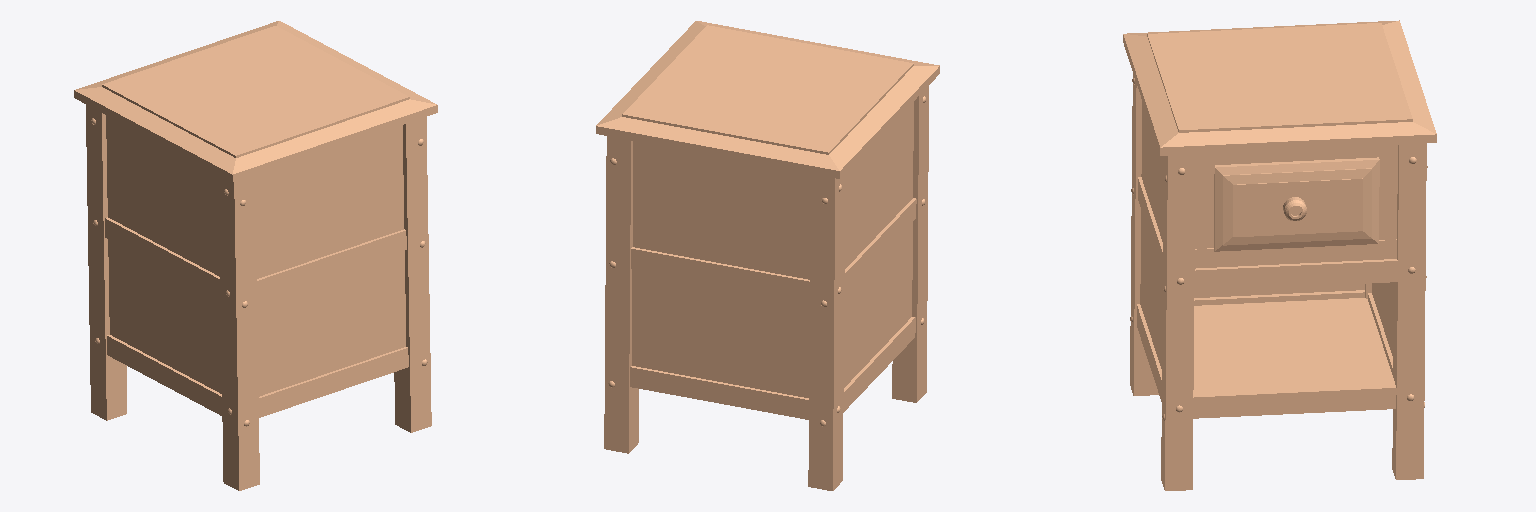
The robot description file, URDF, robot "table":
<?xml version="0.0" ?>
<robot name="table">
  <link name="tableLink">
  <contact>
      <lateral_friction value="1"/>
  </contact>
    <inertial>
      <origin rpy="0 0 0" xyz="0 0 0"/>
       <mass value="0.01"/>
       <inertia ixx="1e-3" ixy="0" ixz="0" iyy="1e-3" iyz="0" izz="1e-3"/>
    </inertial>
    <visual>
      <origin rpy="0 0 0" xyz="0 0 0"/>
      <geometry>
	<mesh filename="night.obj" scale="1 1 1"/>
      </geometry>
       <material name="black">
        <color rgba="1 0.8 0.65 1"/>
      </material>
    </visual>
    <collision>
      <origin rpy="0 0 0" xyz="0 0 0"/>
      <geometry>
	 <mesh filename="night.obj" scale="1 1 1"/>
      </geometry>
    </collision>
  </link>
</robot>

--- What the picture shows (computed from the rendered views, not written in the file) ---
The picture shows the robot from 3 angles, left to right: view 1: azimuth 30°, elevation 25°; view 2: azimuth 150°, elevation 25°; view 3: azimuth 270°, elevation 25°; orthographic projection.
Robot: table — 1 links, 0 joints (none); root link tableLink; default pose: all joints at 0.
Visible links, largest first — view 1: tableLink; view 2: tableLink; view 3: tableLink.
Link boxes in pixels (<box>): tableLink: <box>74,21,437,490</box>; tableLink: <box>596,21,939,490</box>; tableLink: <box>1123,20,1436,490</box>.
Bounding box of the posed robot: 0.5049 × 0.5049 × 0.6356 m (x, y, z).
Meshes: 1 distinct files referenced, 1 mesh visuals loaded (1 OBJ).